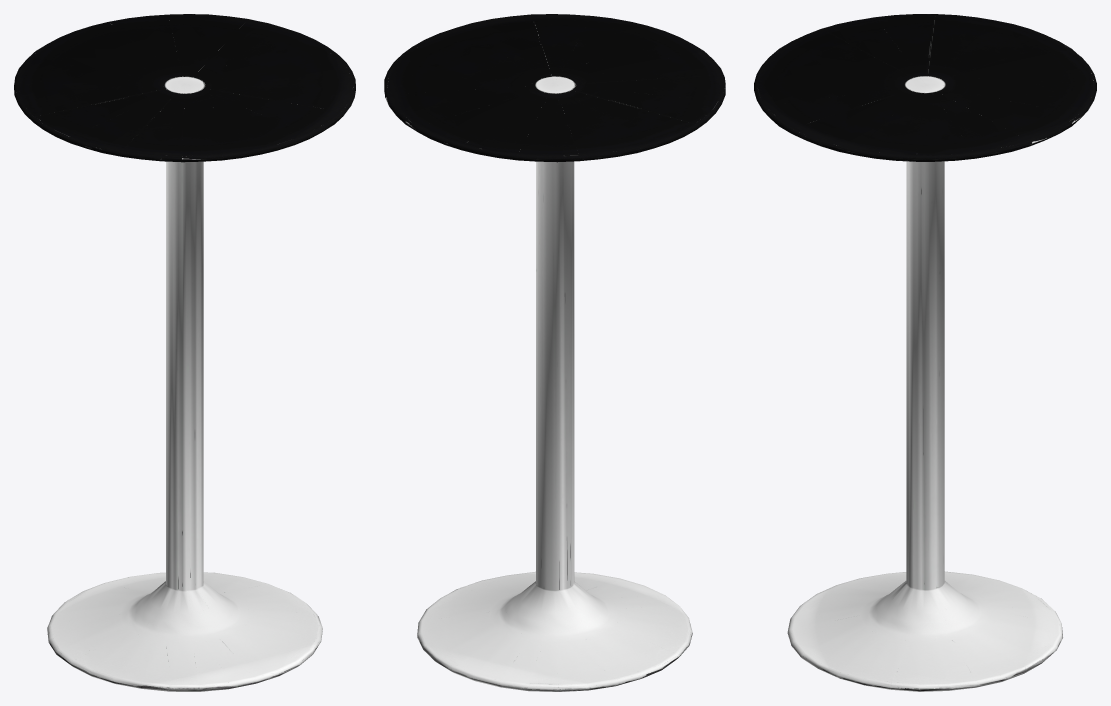
The model's file is Fredrick_Bartable_0404040942_texture.glb.
3 renders of one model, left to right at view 1: azimuth 30°, elevation 25°; view 2: azimuth 150°, elevation 25°; view 3: azimuth 270°, elevation 25°, orthographic.
Parts seen in each view (by area): view 1: Mesh_0.002; view 2: Mesh_0.002; view 3: Mesh_0.002.
Boxes of the visible parts, x1,y1,x2,y2 form: Mesh_0.002: (14,14,355,691); Mesh_0.002: (384,14,725,691); Mesh_0.002: (754,14,1096,691).
Bounding box in the file's own units: 0.6024 × 1.07 × 0.6024.
Materials: 1 (1 with a texture image).
